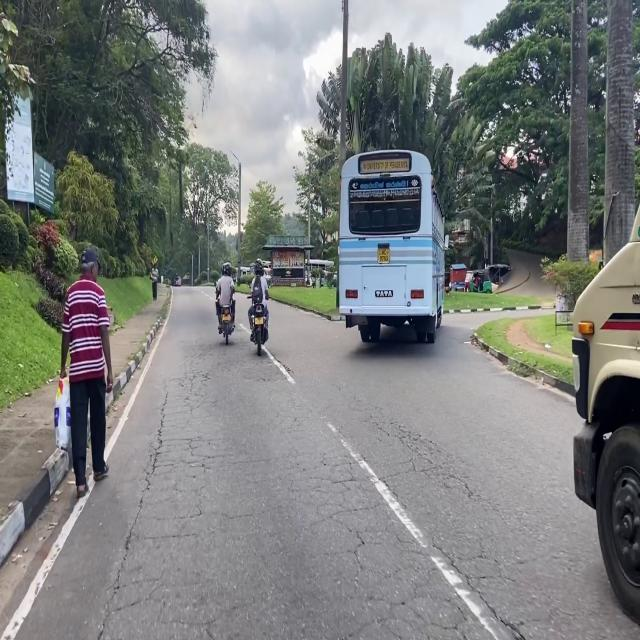bus: (339, 151, 483, 342)
motorcycle: (251, 302, 265, 355), (221, 307, 233, 344)
person: (60, 247, 113, 498), (248, 258, 268, 338), (216, 263, 234, 332), (150, 259, 158, 300)
three wheeler: (469, 270, 492, 292)
truck: (572, 207, 640, 623)
